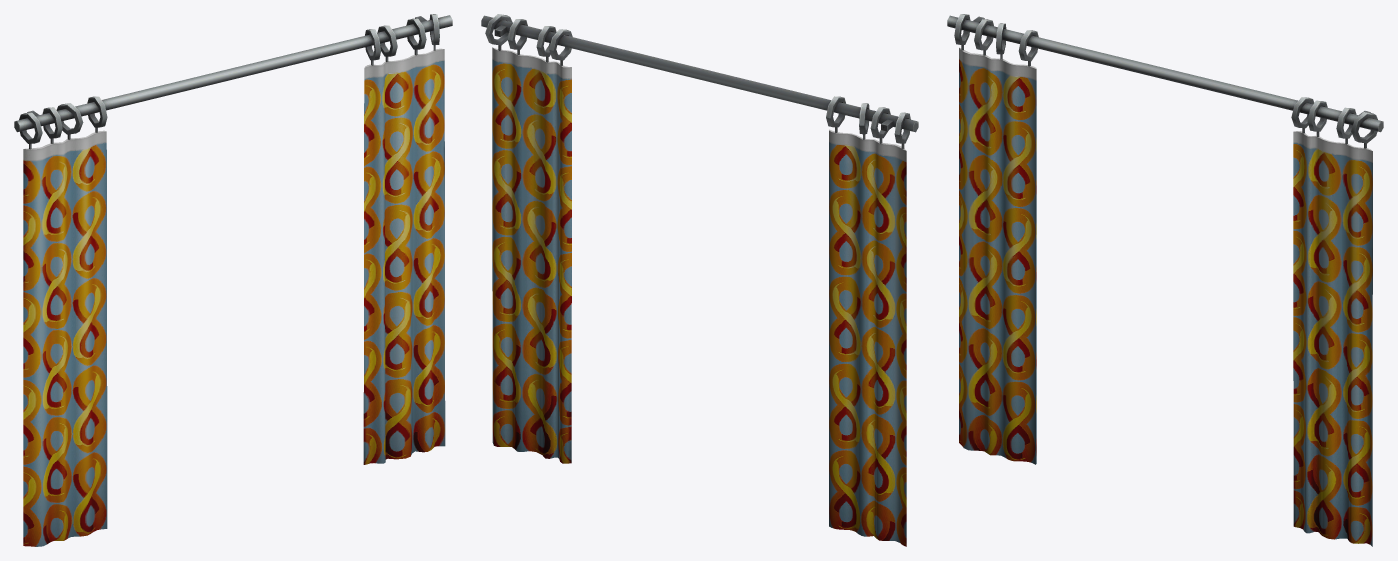
The model's file is cortinas.fbx.
3 views of the same model, side by side, from view 1: azimuth 30°, elevation 25°; view 2: azimuth 150°, elevation 25°; view 3: azimuth 330°, elevation 25° (orthographic).
Visible parts, largest first — view 1: s4studio_mesh_1; view 2: s4studio_mesh_1; view 3: s4studio_mesh_1.
Part boxes in pixels (x1=…): s4studio_mesh_1: x1=14, y1=14, x2=452, y2=546; s4studio_mesh_1: x1=481, y1=14, x2=918, y2=546; s4studio_mesh_1: x1=947, y1=14, x2=1383, y2=546.
Size of the model in its own units: 300 by 286 by 21.37.
2 materials, 2 textured.
